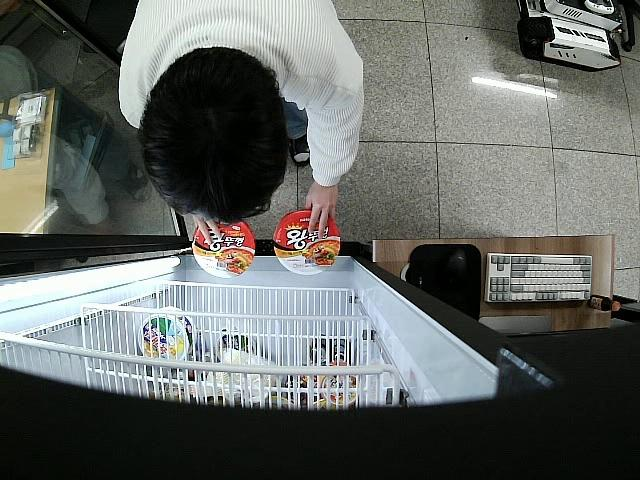00_hand: (304, 180, 338, 238), (193, 212, 224, 248)
10_wangTtukkeong: (274, 210, 340, 275), (192, 219, 254, 278)
